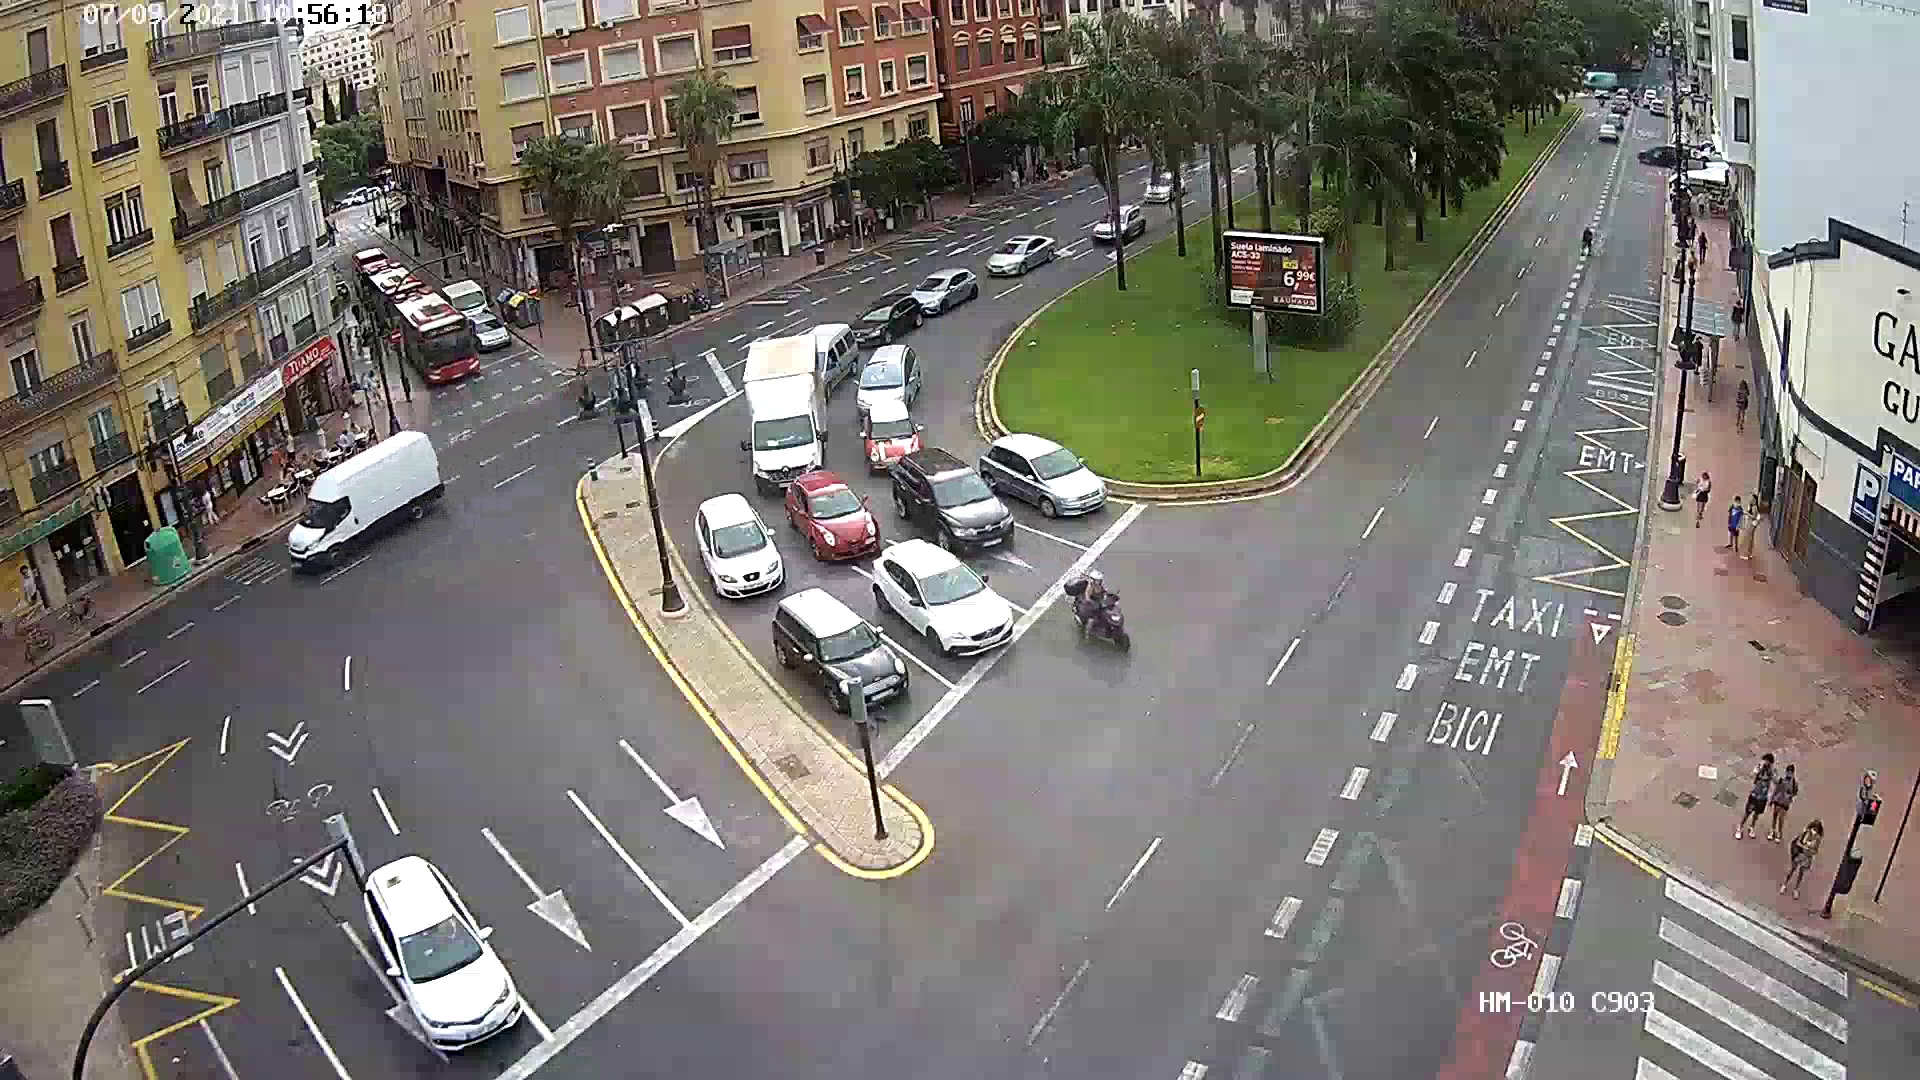Cars: (343, 853, 524, 1047), (757, 595, 928, 716), (874, 545, 1022, 662), (880, 456, 1014, 560), (975, 425, 1110, 522), (683, 485, 787, 604), (775, 473, 880, 566), (829, 298, 930, 345), (975, 228, 1058, 281), (895, 272, 985, 311)
